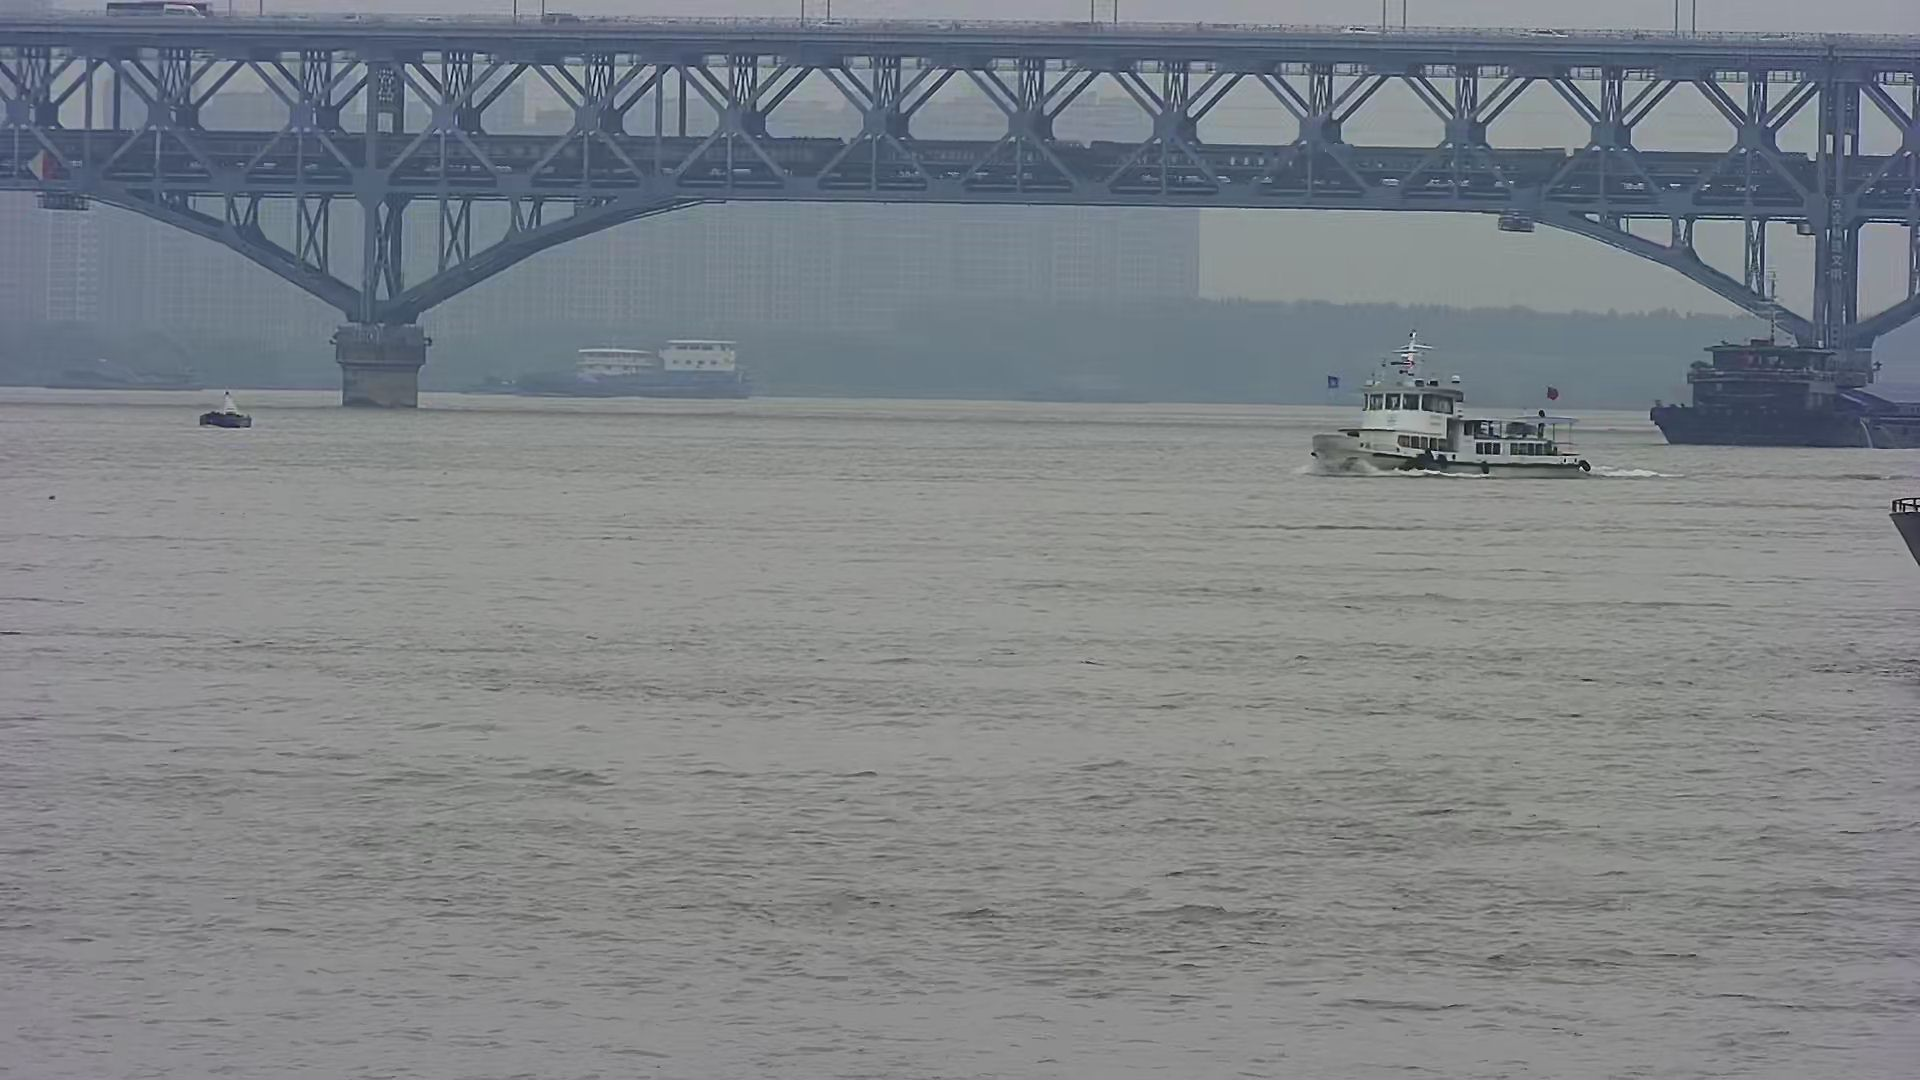boat: (182, 377, 262, 439)
bridge: (8, 9, 1913, 419)
ship: (1286, 309, 1609, 491), (1643, 273, 1920, 462), (592, 320, 764, 407), (492, 332, 655, 400)
